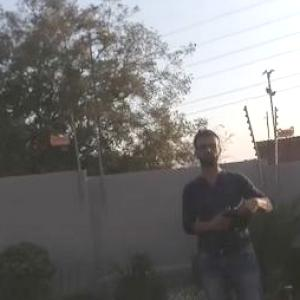follow: (176, 120, 276, 299)
